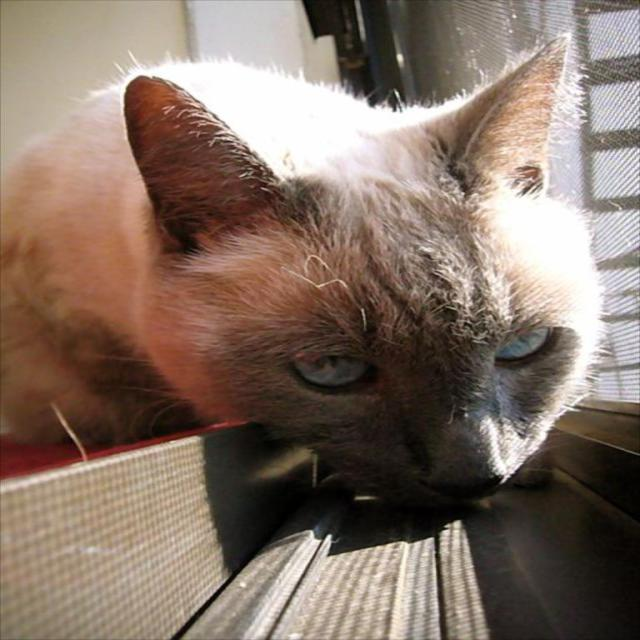Cat: (0, 31, 606, 510)
